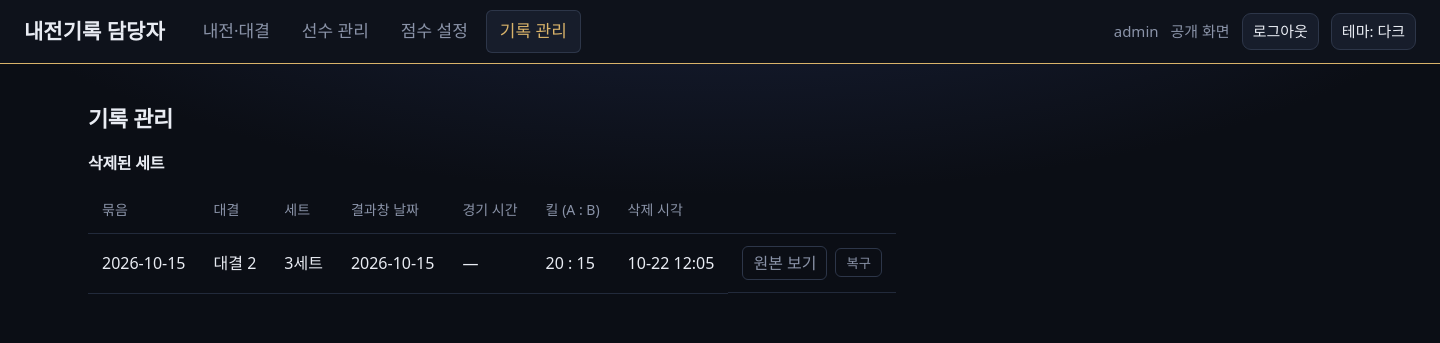
RecordManagePage › 복구하면 POST를 보내고 경고를 보여 주며 목록을 다시 불러온다
Click the button "복구": (859, 263) [836, 248, 882, 278]
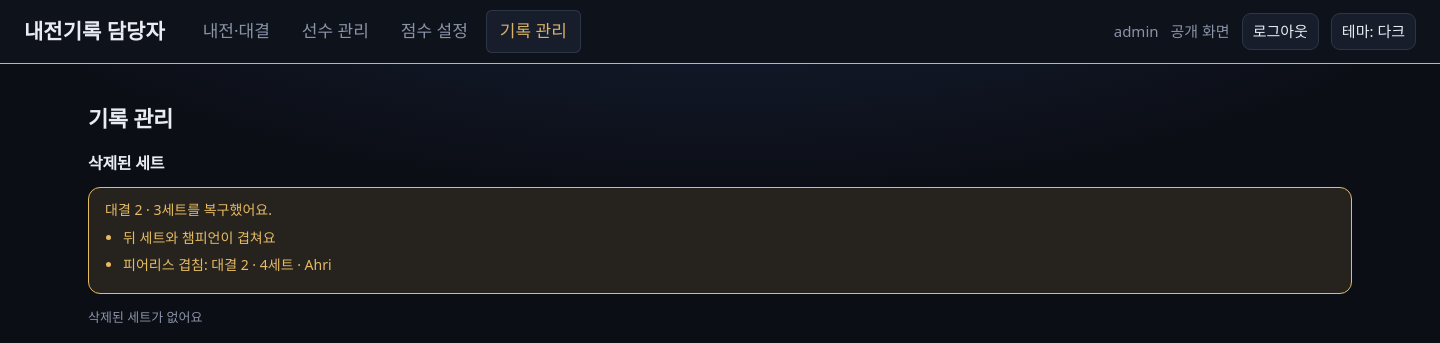
Expected: the list item "뒤 세트와 챔피언이 겹쳐요" is shown, [123, 228, 276, 247]
Expected: the list item "피어리스 겹침: 대결 2 · 4세트 · Ahri" is shown, [123, 255, 332, 274]
Expected: the text "삭제된 세트가 없어요" is shown, [88, 308, 202, 326]
